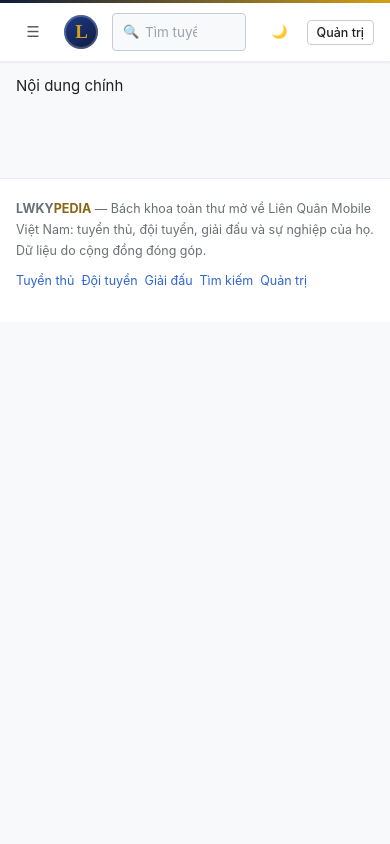
Test: SiteChrome › nút Mở menu bật sidebar và aria-expanded
Click the button named "Mở menu": (33, 32) [16,15,50,49]
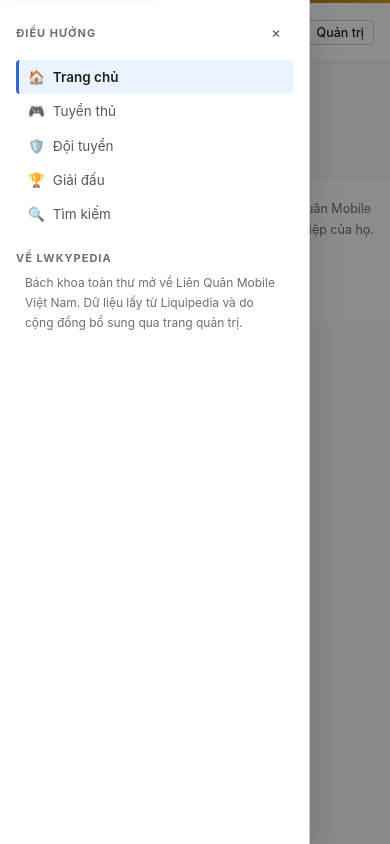
Check: the button named "Mở menu" is expanded, box [16,15,50,49]
Check: the button named "Đóng menu" is shown, box [259,16,293,50]
